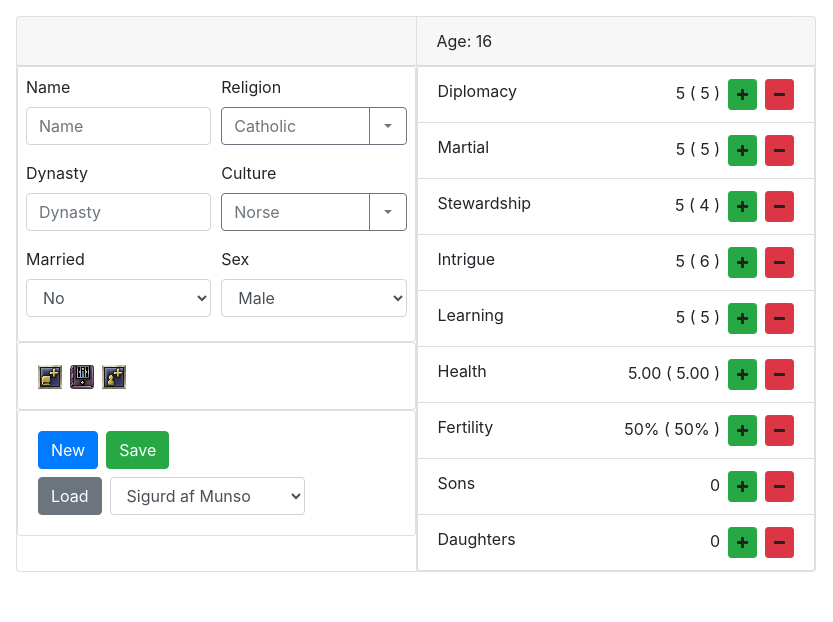
Test case: pops up trait tooltip when a trait item is hovered over
The image size is (833, 622).
Click the picture with alt text "Traits Dropdown Toggle".
click(114, 377)  # box top-left (102, 365), bottom-right (126, 389)
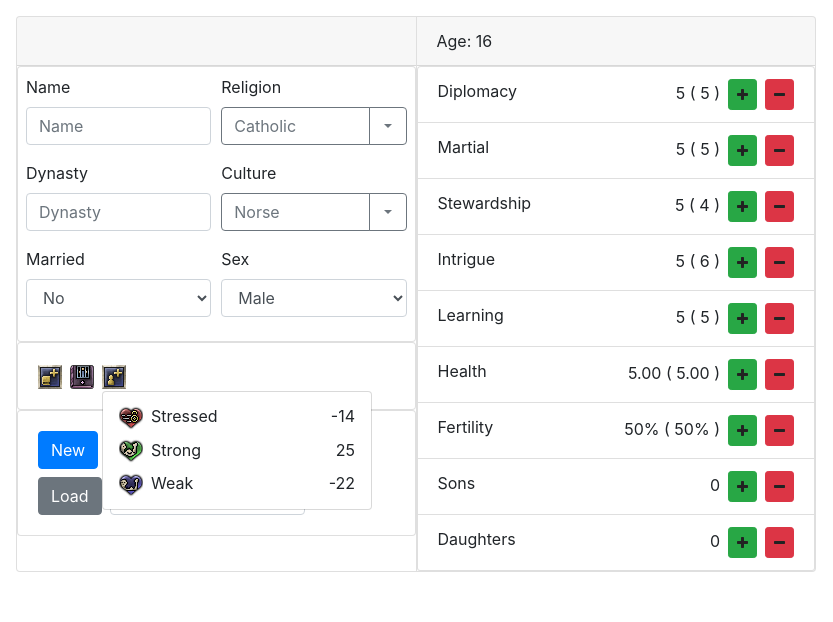
Hover over the button "Strong 25".
mouse_move(176, 450)  # box top-left (103, 434), bottom-right (371, 467)
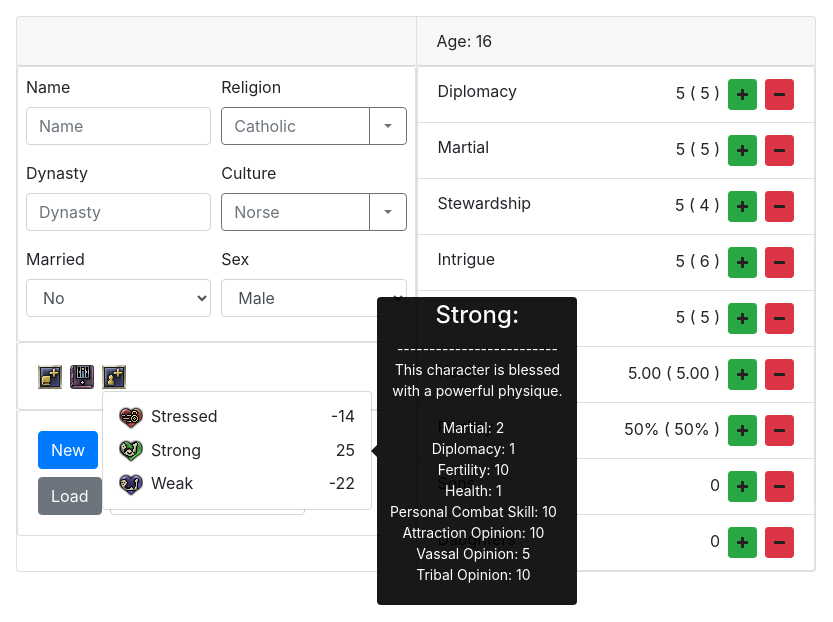
expect the tooltip named "Strong Trait Tooltip" is shown: met, box top-left (371, 297), bottom-right (584, 605)
